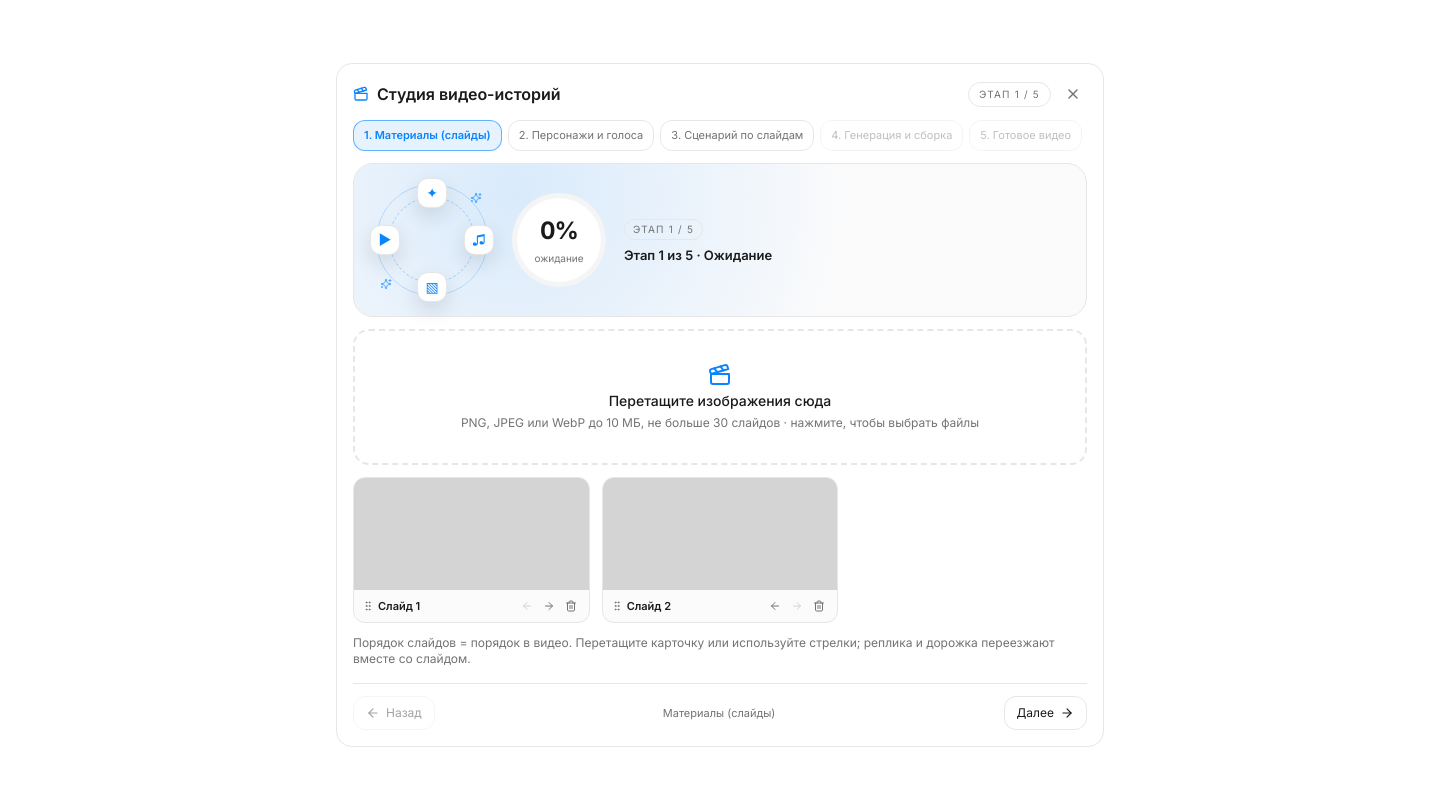
it: студия: этап 1 — материалы › стрелки меняют порядок слайдов
This screenshot has width=1440, height=810.
Earlier steps of the test are not shown.
Later steps or results of the test are not shown.
Click the button with test id "story-stage-3": (737, 136) x1=660 y1=120 x2=814 y2=151
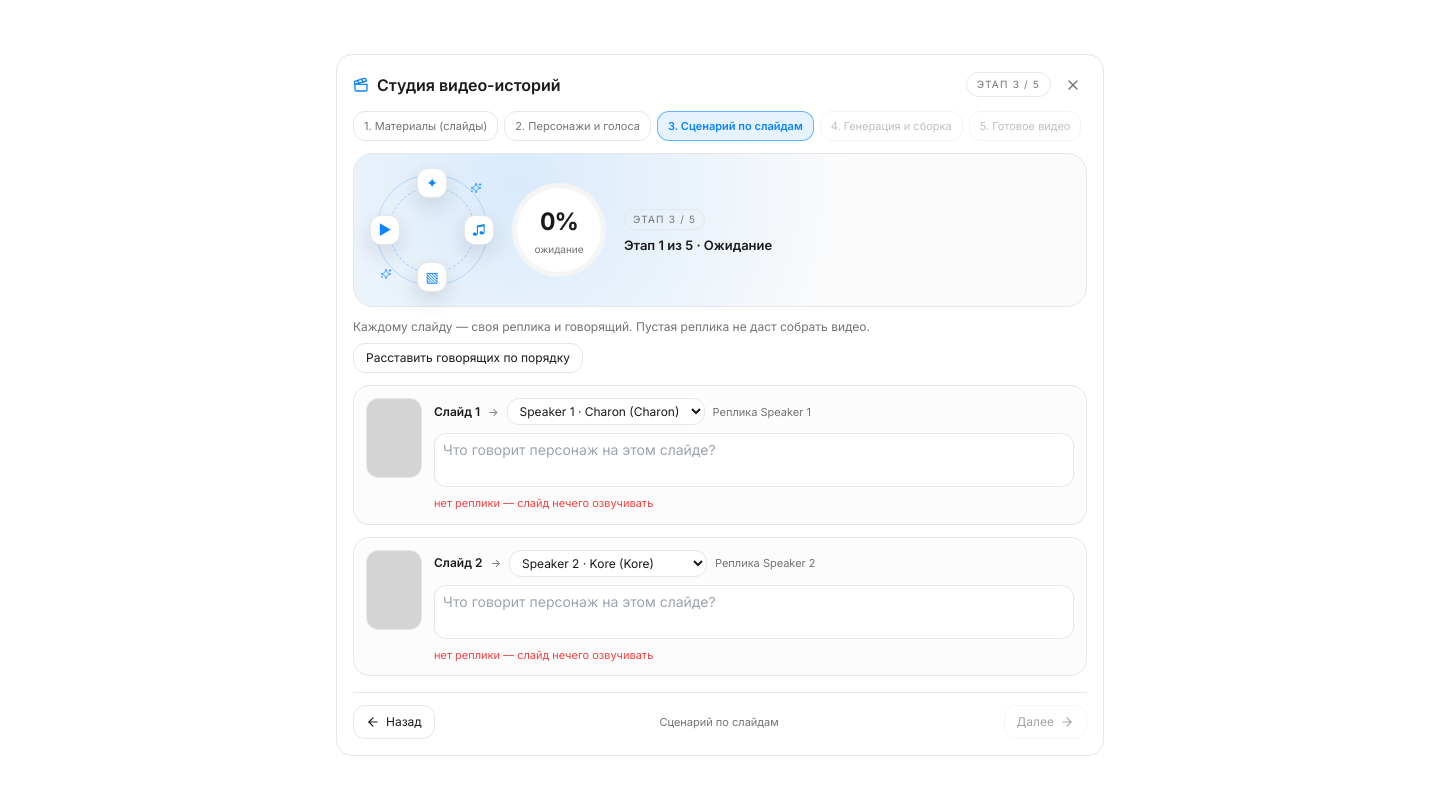
Expected: the text box with test id "story-script-1" is shown, x1=434 y1=433 x2=1074 y2=487
